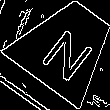N_NE: (34, 15, 98, 79)
